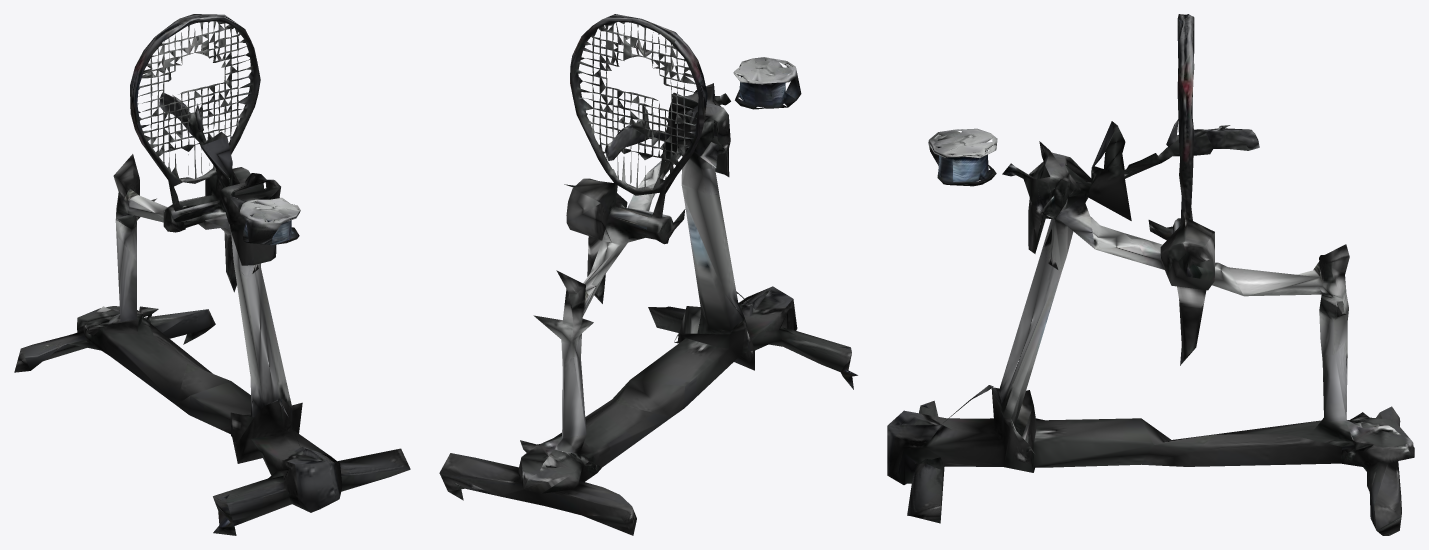
File: innen_bespann.glb
The picture shows the model from 3 angles, left to right: view 1: azimuth 30°, elevation 25°; view 2: azimuth 150°, elevation 25°; view 3: azimuth 270°, elevation 25°; orthographic projection. The views are drawn at different scales.
Parts seen in each view (by area): view 1: tripo_node_3e0937e3-1b2b-4fed-a921-620d626cb93b; view 2: tripo_node_3e0937e3-1b2b-4fed-a921-620d626cb93b; view 3: tripo_node_3e0937e3-1b2b-4fed-a921-620d626cb93b.
Boxes of the visible parts, <box> form: tripo_node_3e0937e3-1b2b-4fed-a921-620d626cb93b: <box>14,14,410,535</box>; tripo_node_3e0937e3-1b2b-4fed-a921-620d626cb93b: <box>439,14,857,535</box>; tripo_node_3e0937e3-1b2b-4fed-a921-620d626cb93b: <box>887,14,1414,535</box>.
Size of the model in its own units: 0.4906 by 0.978 by 0.9938.
Materials: 1 (1 with a texture image).
